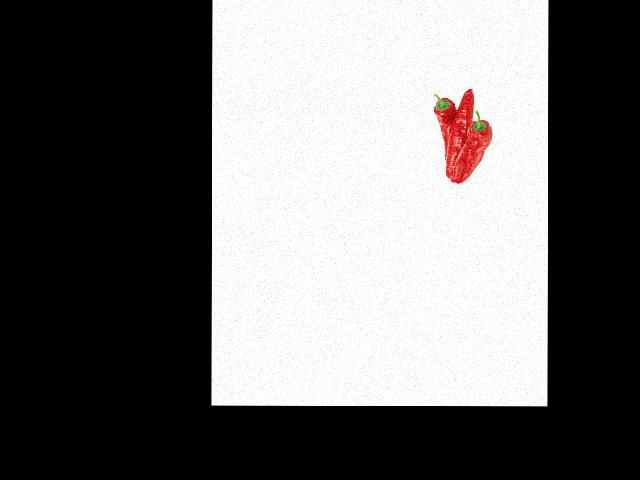bell_pepper: (459, 108, 494, 184)
